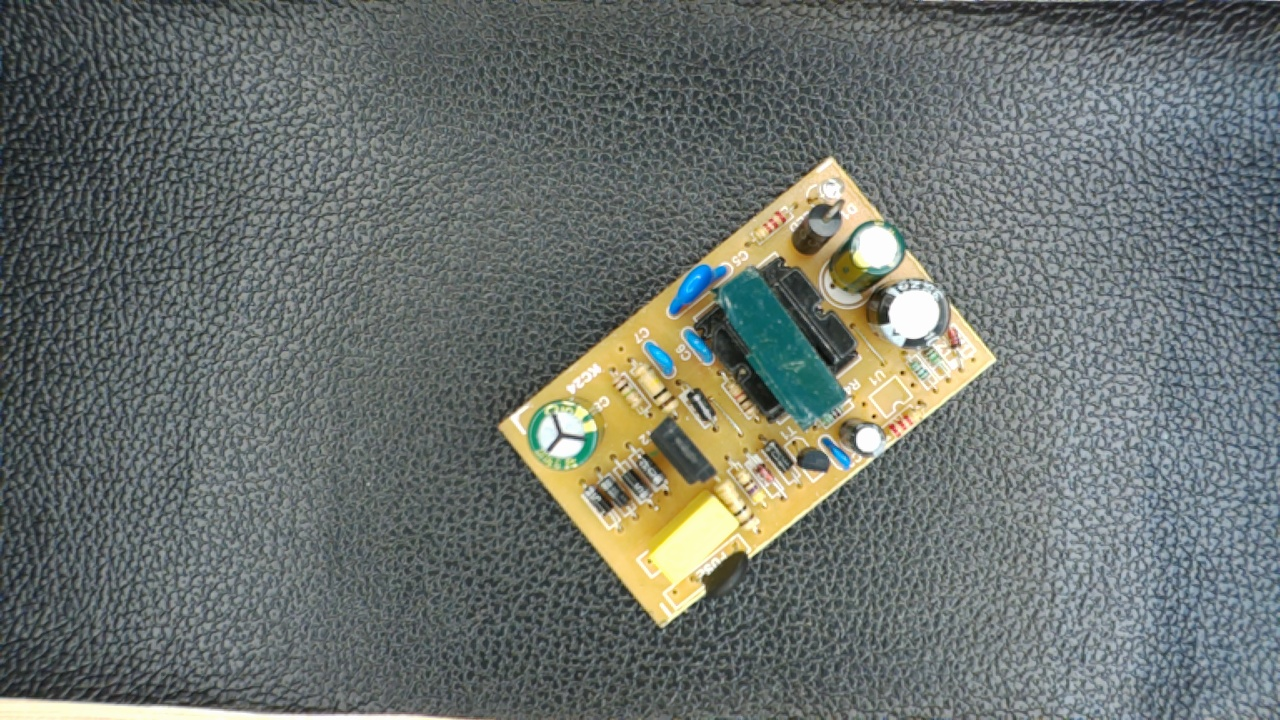fuse: (680, 537, 758, 608)
hv_capacitor: (519, 396, 606, 473)
mov: (663, 257, 731, 320)
